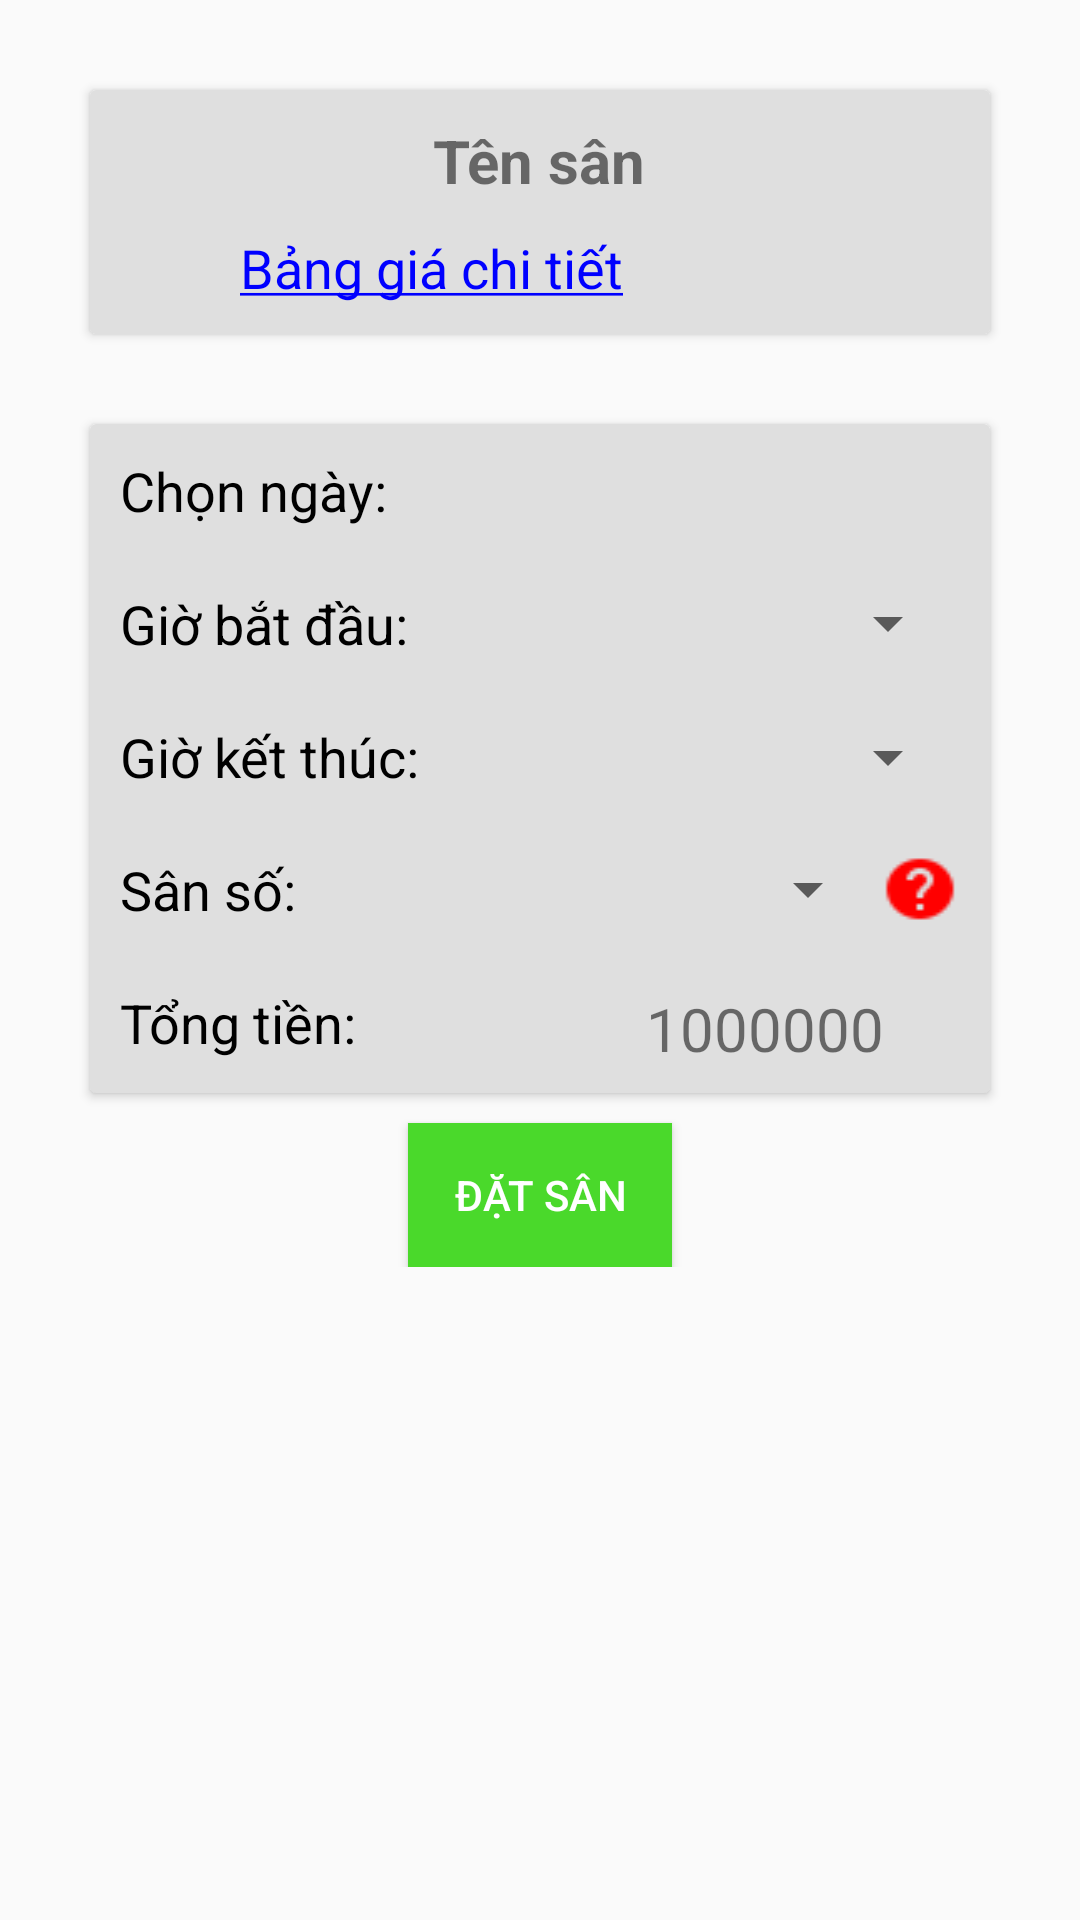

Icons on this 1080w x 1920h Android screen, each with its box as bbox=[x1, y1, x2, y2]:
help: bbox=[885, 858, 955, 920]
